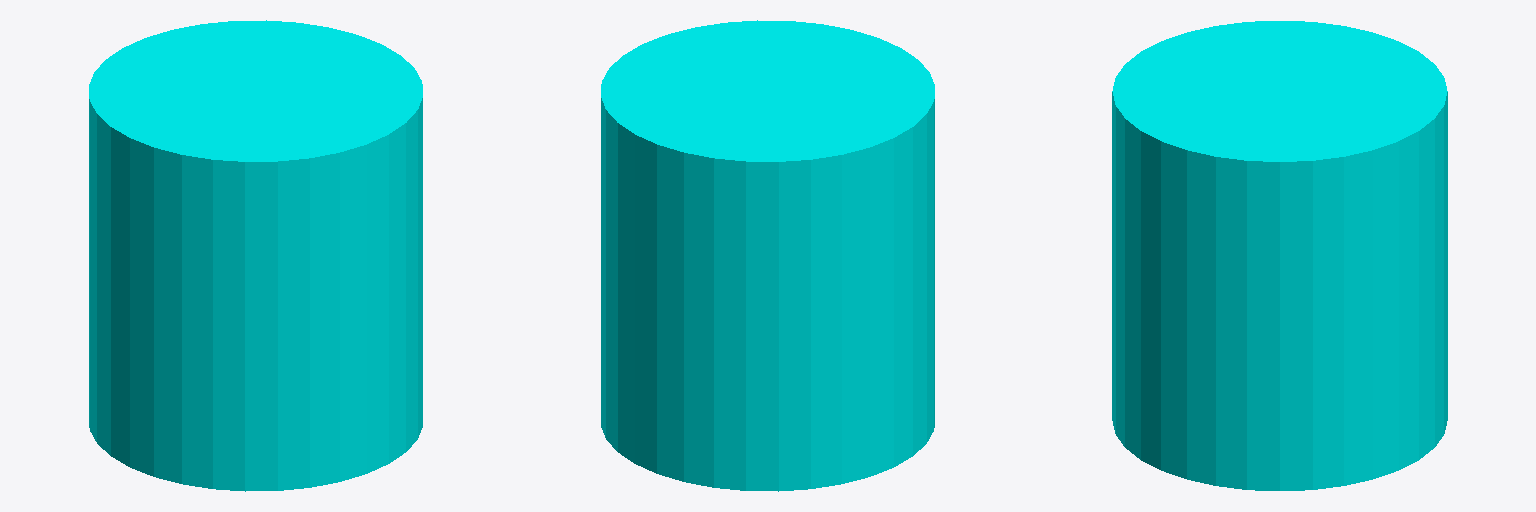
The robot description file, URDF, robot "cylinder":
<?xml version="1.0" ?>
<robot name="cylinder">
  <link name="cylinder_base_link">
    <contact>
      <restitution value="1.0"/>
      <lateral_friction value="0.5"/>
      <rolling_friction value="0.001"/>
      <contact_cfm value="0.0"/>
      <contact_erp value="1.0"/>
    </contact>
    <inertial>
      <mass value="0.2"/>
      <inertia ixx="0.0003267" ixy="0.0" ixz="0.0" iyy="0.0003267" iyz="0.0" izz="0.00009"/>
      <origin rpy="0 0 0" xyz="0 0 0"/>
    </inertial>
    <visual>
      <geometry>
        <cylinder length="0.13" radius="0.06"/>
      </geometry>
      <origin rpy="0 0 0" xyz="0 0 0"/>
       <material name="cyan">
        <color rgba="0 1 1 1"/>
      </material>
    </visual>
    <collision>
      <origin rpy="0 0 0" xyz="0 0 0"/>
      <geometry>
        <cylinder length="0.13" radius="0.06"/>
      </geometry>
    </collision>
  </link>
</robot>

--- Facts derived from the render (not from the file) ---
The picture shows the robot from 3 angles, left to right: view 1: azimuth 30°, elevation 25°; view 2: azimuth 150°, elevation 25°; view 3: azimuth 270°, elevation 25°; orthographic projection.
Robot: cylinder — 1 links, 0 joints (none); root link cylinder_base_link; default pose: every joint at zero.
Visible links, largest first — view 1: cylinder_base_link; view 2: cylinder_base_link; view 3: cylinder_base_link.
Link boxes in pixels (x1=…): cylinder_base_link: x1=89, y1=20, x2=422, y2=491; cylinder_base_link: x1=601, y1=20, x2=934, y2=491; cylinder_base_link: x1=1112, y1=21, x2=1447, y2=490.
Bounding box of the posed robot: 0.12 × 0.12 × 0.13 m (x, y, z).
Geometry: primitives only (box / cylinder / sphere), no mesh files.